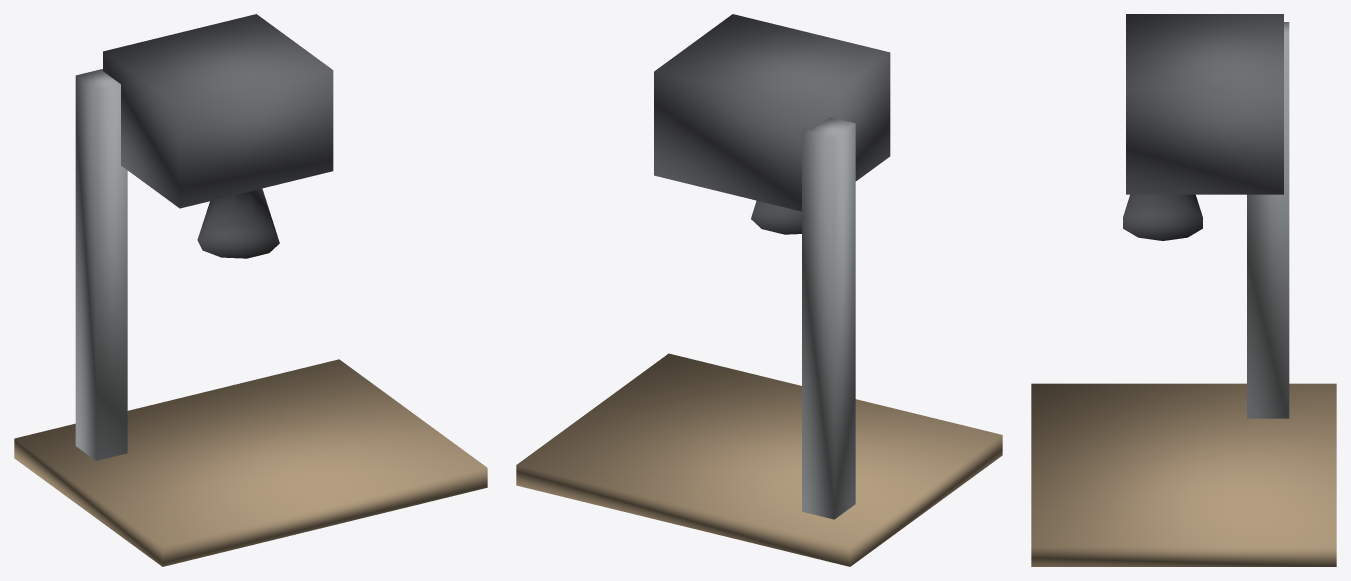
The model's file is photo_enlarger__squat.glb.
3 views of the same model, side by side, from view 1: azimuth 30°, elevation 25°; view 2: azimuth 150°, elevation 25°; view 3: azimuth 270°, elevation 25° (orthographic). The views are drawn at different scales.
Visible parts, largest first — view 1: world; view 2: world; view 3: world.
Boxes of the visible parts, <box> form: world: <box>14,14,487,566</box>; world: <box>516,14,1002,566</box>; world: <box>1031,14,1336,566</box>.
Bounding box in the file's own units: 0.792 × 0.9555 × 0.6264.
